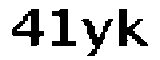1: (49, 6, 79, 53)
4: (9, 5, 46, 50)
k: (116, 7, 150, 51)
y: (79, 13, 114, 60)
